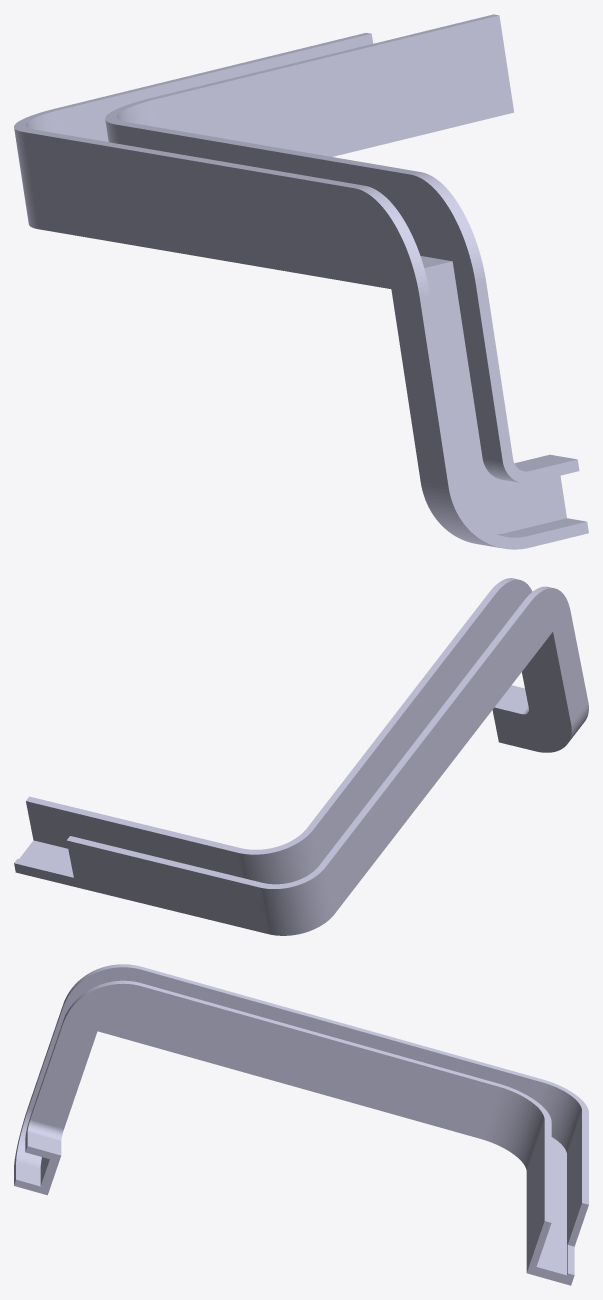
The model's file is arducamsupport_rcover.dae.
3 views of the same model, one above another, from view 1: azimuth 30°, elevation 25°; view 2: azimuth 150°, elevation 25°; view 3: azimuth 270°, elevation 25° (orthographic). The views are drawn at different scales.
Visible parts, largest first — view 1: node0; view 2: node0; view 3: node0.
Boxes of the visible parts, x1,y1,x2,y2 form: node0: [14, 14, 588, 549]; node0: [14, 578, 588, 935]; node0: [14, 964, 588, 1285].
Bounding box in the file's own units: 0.069 × 0.1189 × 0.0441.
